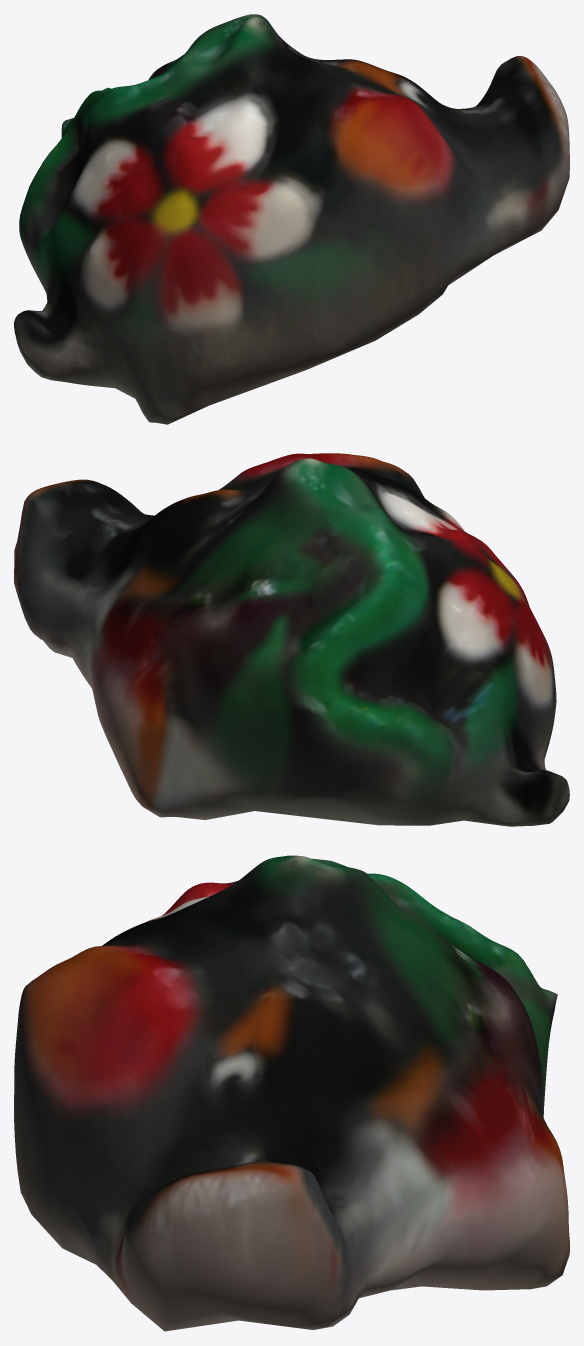
The picture shows the model from 3 angles, top to bottom: view 1: azimuth 30°, elevation 25°; view 2: azimuth 150°, elevation 25°; view 3: azimuth 270°, elevation 25°; orthographic projection. The views are drawn at different scales.
Size of the model in its own units: 0.4998 by 0.3022 by 0.3372.
Materials: 1 (1 with a texture image).
